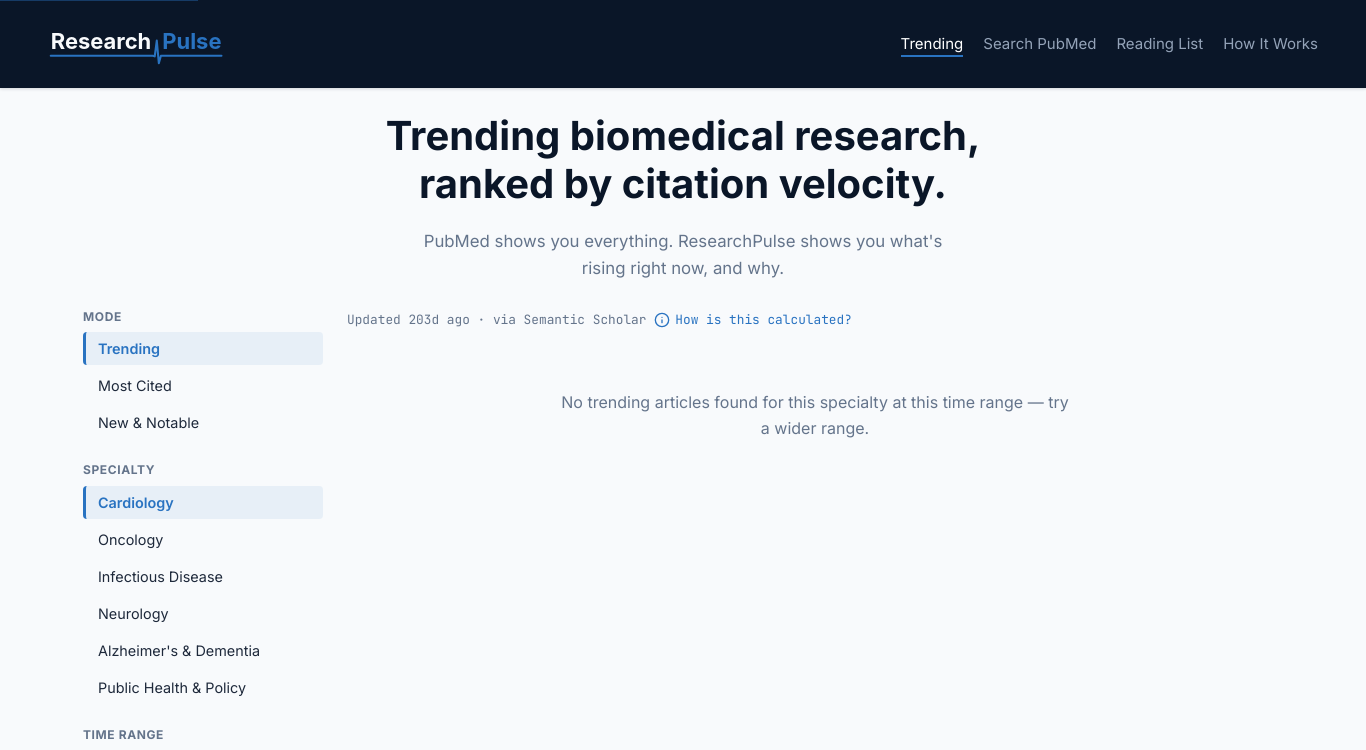
App routing › clicking Search PubMed in the nav navigates from Trending to the Search page
Click the link "Search PubMed": (1040, 46) [983,34,1096,57]
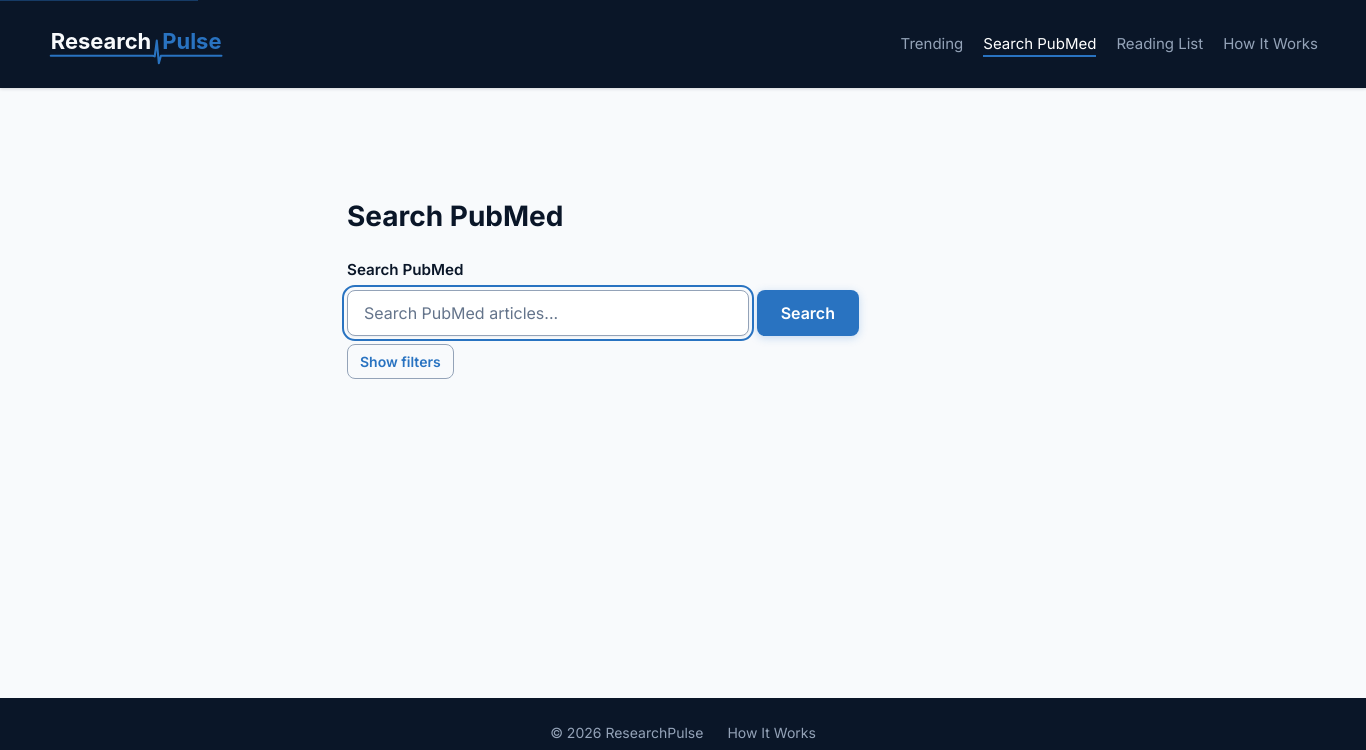
Now the heading "Search PubMed" is shown, box [347,199,563,233]
Now the field labelled "Search PubMed" is shown, box [347,290,749,336]
